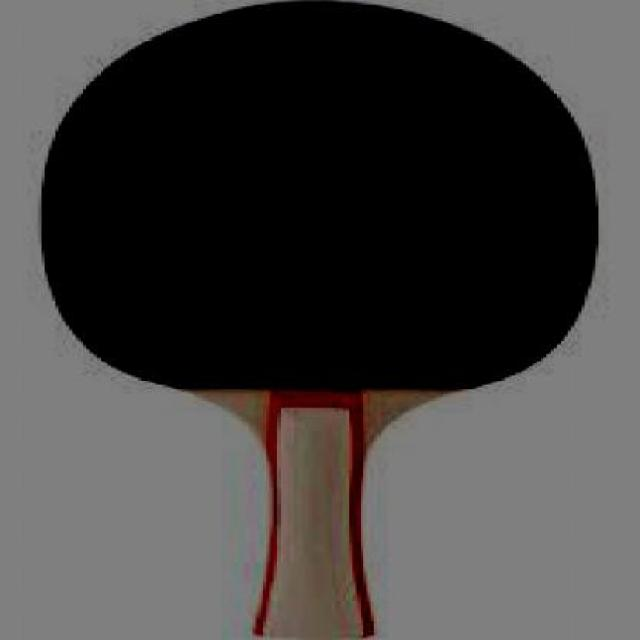table_tennis_racket: (31, 4, 603, 422)
